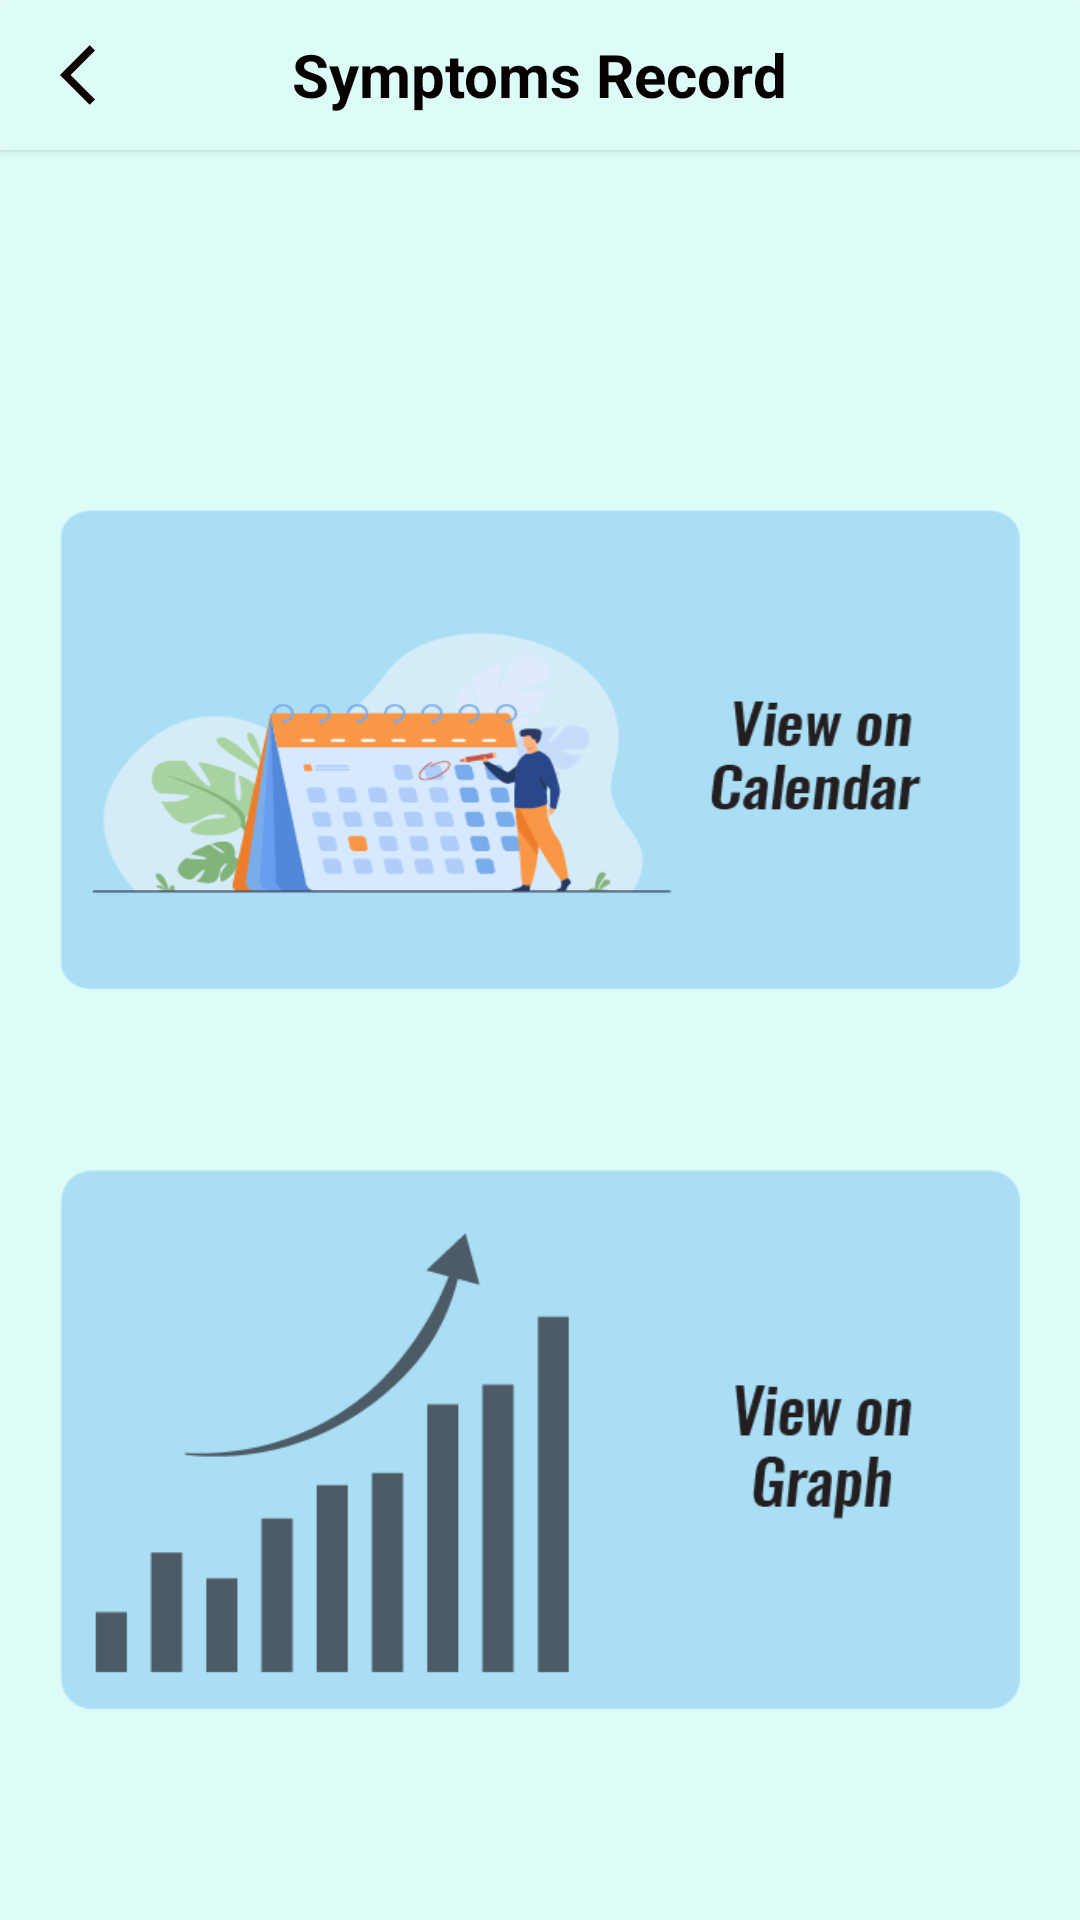

Icon bounding boxes for this 1080×1920 phone screenshot, format (x1, y1, x2, y2):
back: (60, 45, 95, 105)
